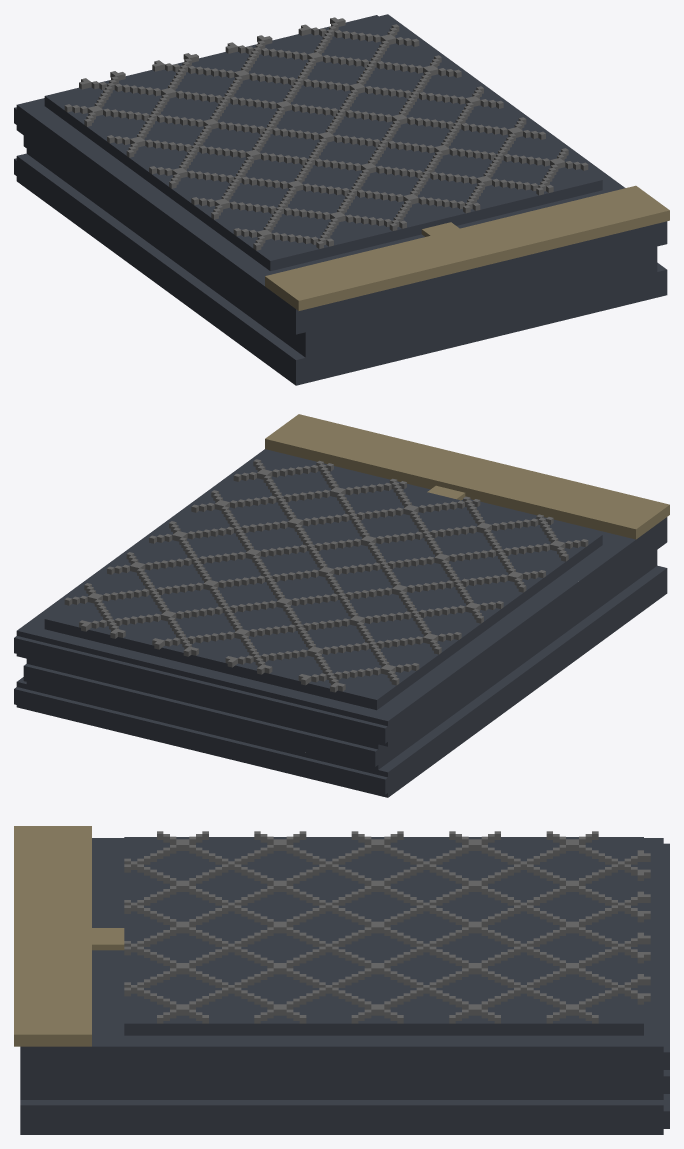
The model's file is canvas_pants_padded.glb.
The picture shows the model from 3 angles, top to bottom: view 1: azimuth 30°, elevation 25°; view 2: azimuth 150°, elevation 25°; view 3: azimuth 270°, elevation 25°; orthographic projection. The views are drawn at different scales.
Visible parts, largest first — view 1: canvas_pants_padded:compound; view 2: canvas_pants_padded:compound; view 3: canvas_pants_padded:compound.
Part boxes in pixels (x1,y1,x2,y2): canvas_pants_padded:compound: [14, 14, 669, 385]; canvas_pants_padded:compound: [14, 414, 669, 797]; canvas_pants_padded:compound: [14, 826, 669, 1134].
Bounding box in the file's own units: 0.304 × 0.072 × 0.404.
